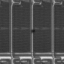dust: (31, 29, 36, 33)
